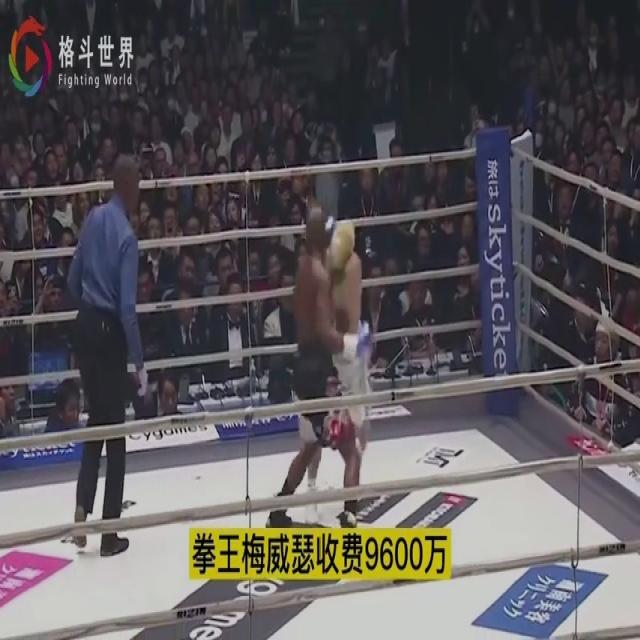fight: (266, 199, 374, 529)
non-fight: (64, 150, 148, 554)
